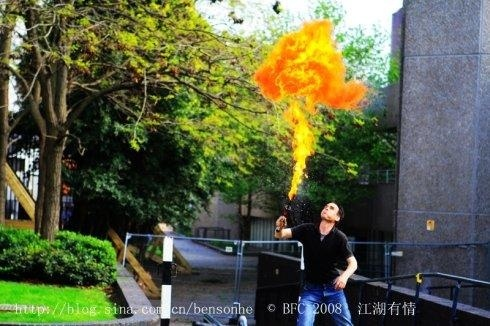fire: (252, 14, 369, 196)
